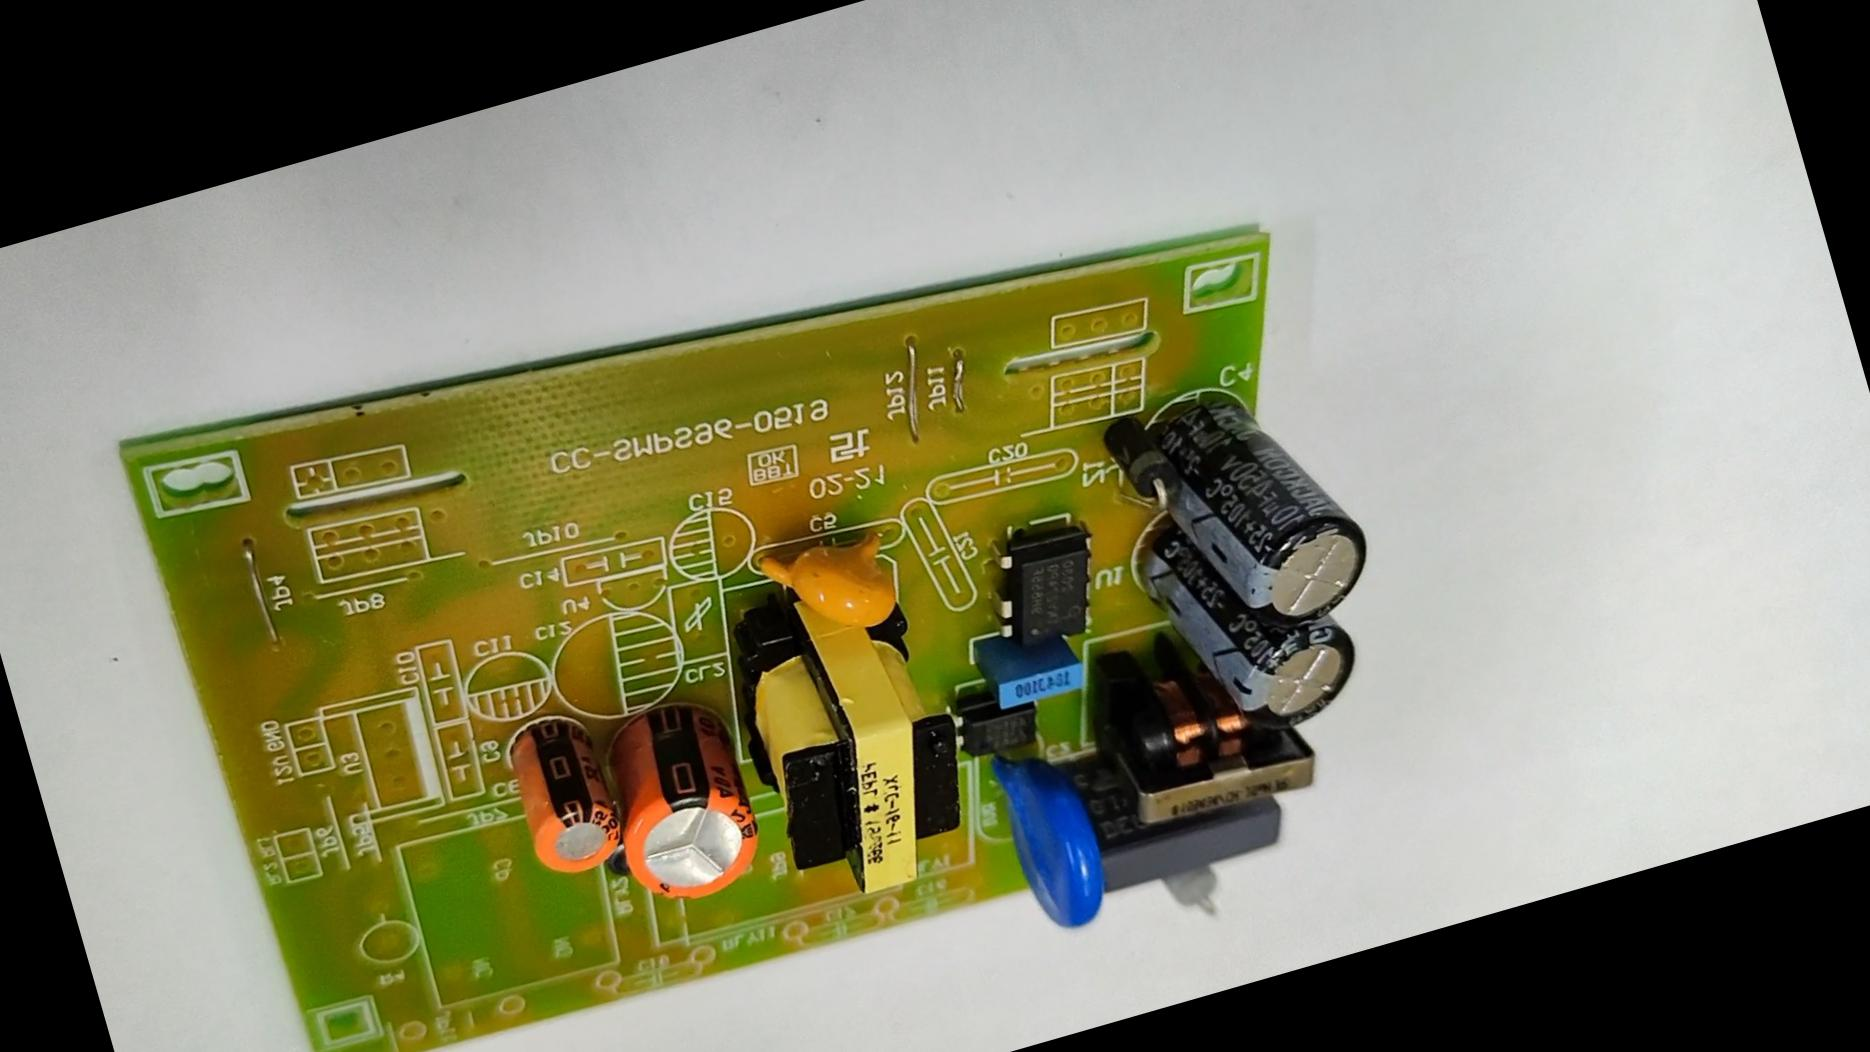Cap1: (587, 678, 776, 917)
Cap2: (488, 700, 632, 893)
Cap3: (1228, 602, 1376, 744)
Cap4: (1149, 353, 1388, 641)
MOSFET: (966, 505, 1125, 662)
Mov: (977, 735, 1121, 942)
Resistor: (1158, 858, 1236, 933)
Transformer: (723, 565, 989, 926), (1075, 632, 1260, 831)
